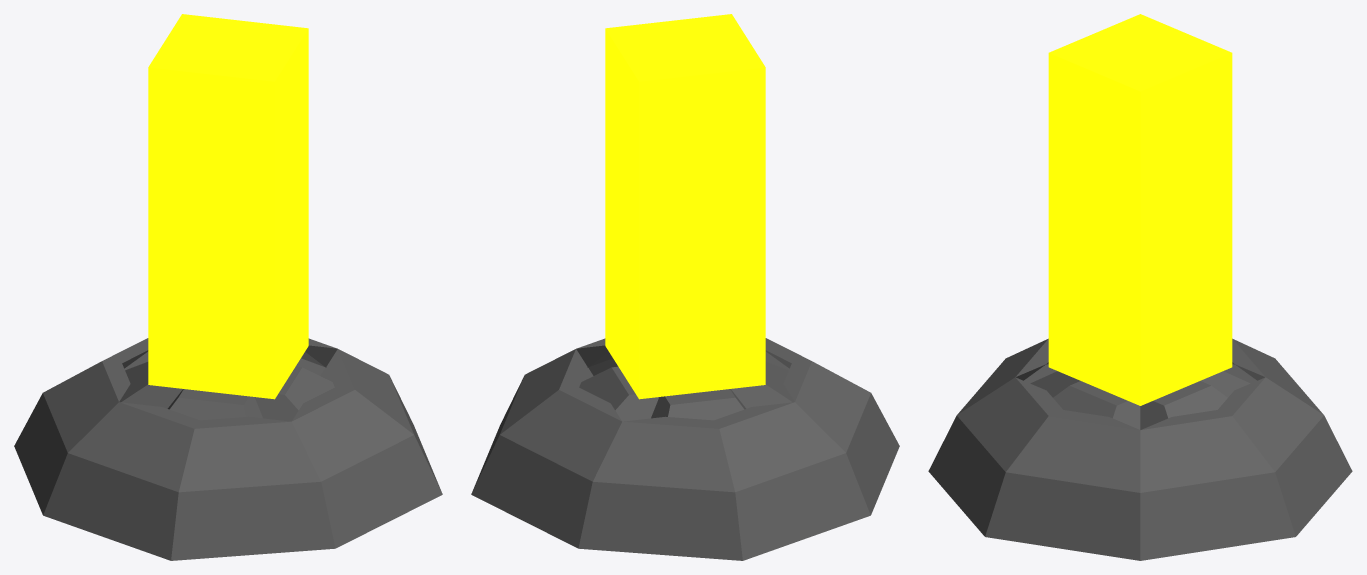
File: Lantern.glb
3 views of the same model, side by side, from view 1: azimuth 30°, elevation 25°; view 2: azimuth 150°, elevation 25°; view 3: azimuth 270°, elevation 25° (orthographic).
Visible parts, largest first — view 1: Plane, Plane.001, Plane.002; view 2: Plane, Plane.001, Plane.002; view 3: Plane.001, Plane, Plane.002.
Part boxes in pixels (<box>): Plane: <box>14,338,442,560</box>; Plane.001: <box>148,14,308,399</box>; Plane.002: <box>119,358,334,421</box>; Plane: <box>471,338,899,560</box>; Plane.001: <box>605,14,765,399</box>; Plane.002: <box>579,358,794,421</box>; Plane.001: <box>1048,14,1232,405</box>; Plane: <box>928,338,1352,560</box>; Plane.002: <box>1030,371,1250,429</box>.
Bounding box in the file's own units: 1.83 × 2 × 1.83.
